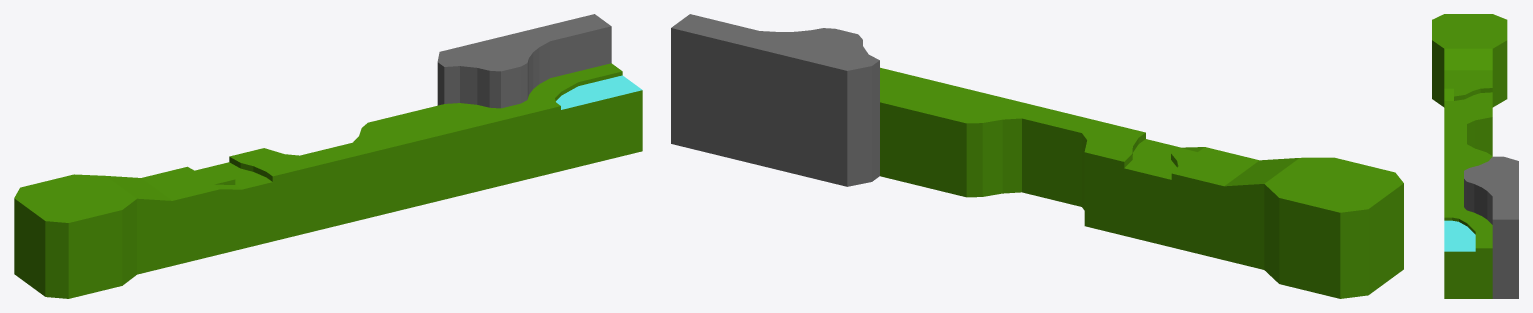
The model's file is swamp.dae.
3 views of the same model, side by side, from view 1: azimuth 30°, elevation 25°; view 2: azimuth 150°, elevation 25°; view 3: azimuth 270°, elevation 25° (orthographic). The views are drawn at different scales.
Parts seen in each view (by area): view 1: SketchUp (×3); view 2: SketchUp (×2); view 3: SketchUp (×3).
Part boxes in pixels (x1,y1,x2,y2): SketchUp (×3): [14, 14, 642, 298]; SketchUp (×2): [671, 14, 1403, 298]; SketchUp (×3): [1432, 14, 1518, 298].
Size of the model in its own units: 8679 by 1406 by 1417.
